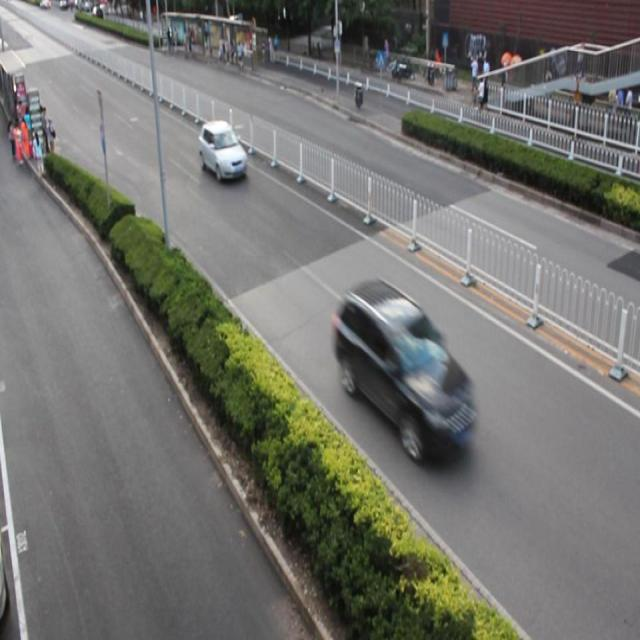car: (333, 278, 478, 463), (197, 120, 248, 182)
